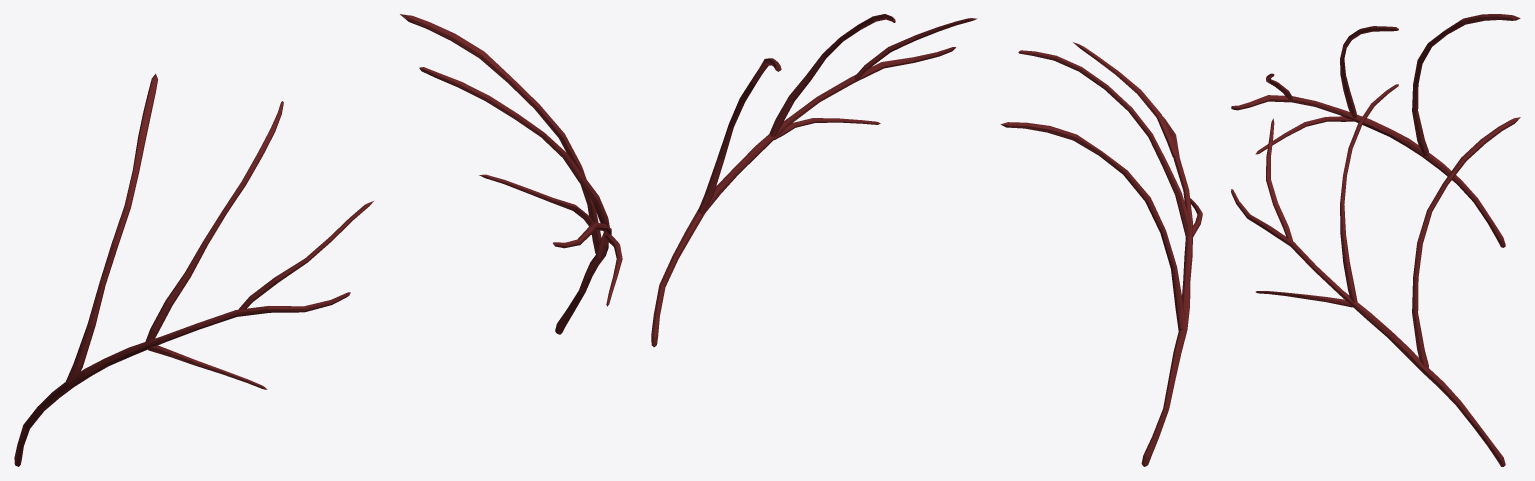
The model's file is Rama Frontal.FBX.
3 views of the same model, side by side, from view 1: azimuth 30°, elevation 25°; view 2: azimuth 150°, elevation 25°; view 3: azimuth 270°, elevation 25° (orthographic). The views are drawn at different scales.
Visible parts, largest first — view 1: CS_Arterie; view 2: CS_Arterie; view 3: CS_Arterie.
Part boxes in pixels (x1,y1,x2,y2): CS_Arterie: (14, 14, 622, 466); CS_Arterie: (651, 14, 1202, 466); CS_Arterie: (1231, 14, 1520, 466).
Size of the model in its own units: 509 by 314 by 274.
